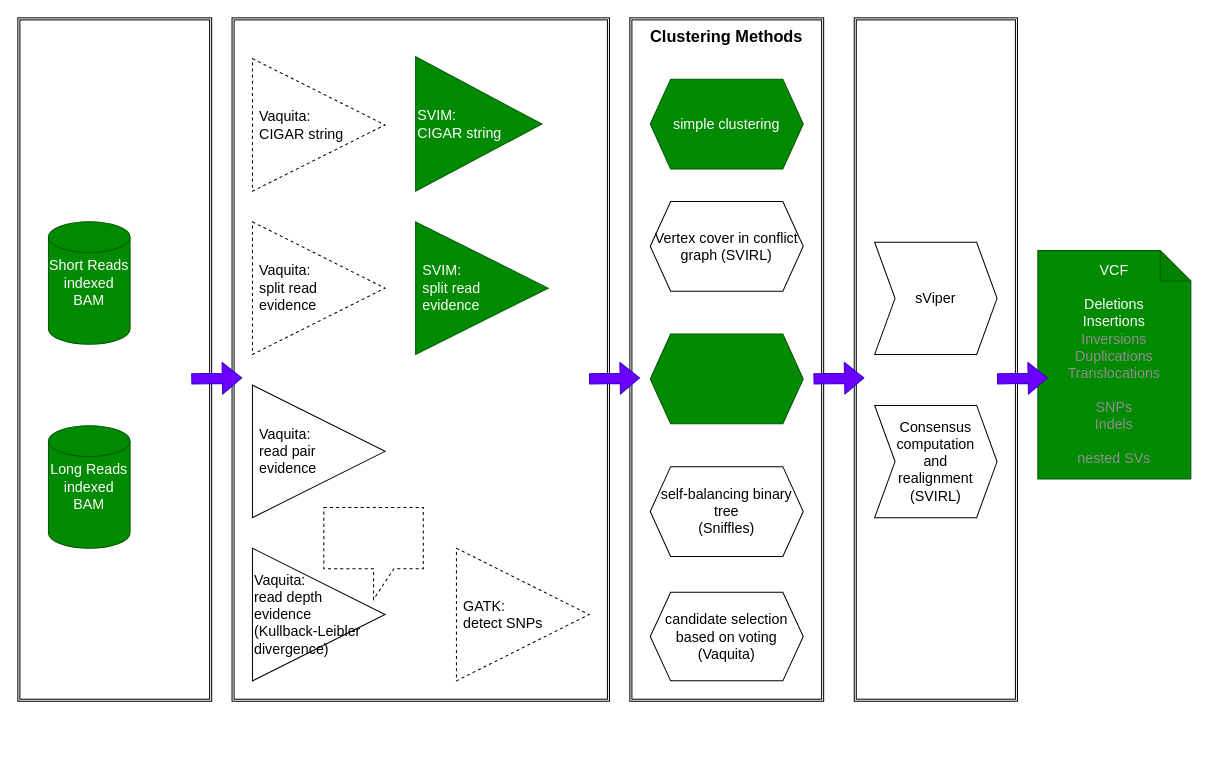
Image size: 1209x770. Some labels were removed from this diagram. The shapes that lost their labels are listed below. From the top down, each one's box as (x1, y1, x2, y2) in pixels, then its label:
(17, 17, 212, 701): Input
(231, 17, 609, 701): Detection Methods
(649, 333, 803, 424): hierarchical clustering (SVIM)
(853, 17, 1017, 701): Refinement Methods
(323, 506, 423, 599): Maybe move this Method behind the clustering
